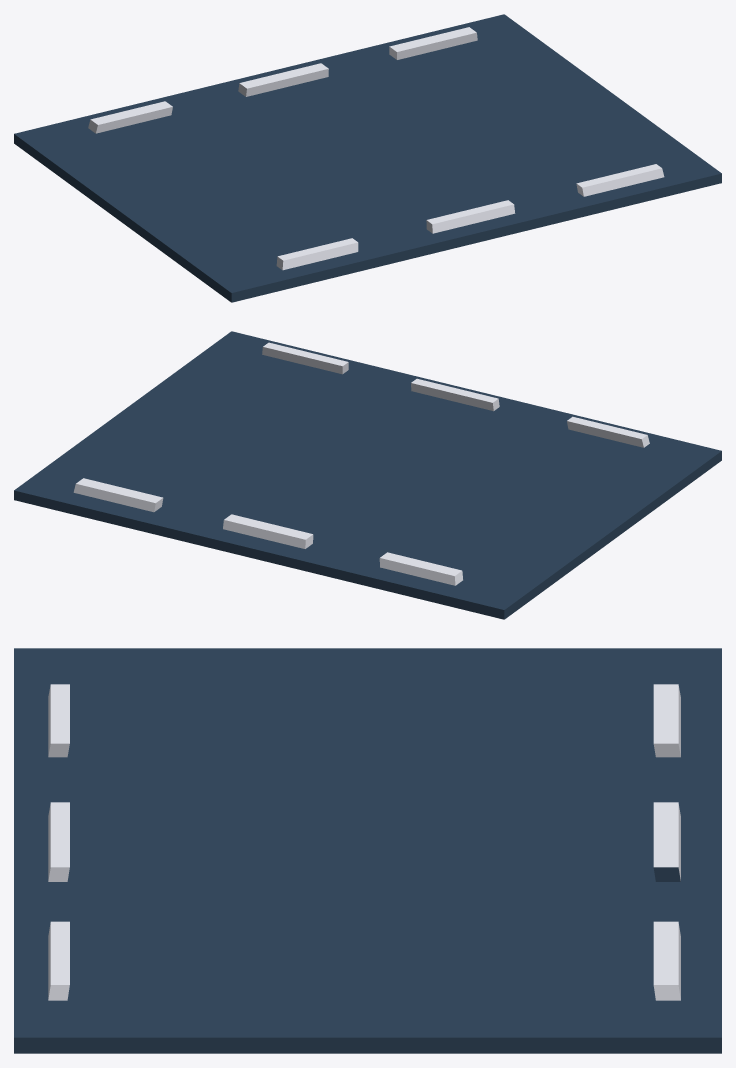
Rendered from Parking.fbx.
3 views of the same model, one above another, from view 1: azimuth 30°, elevation 25°; view 2: azimuth 150°, elevation 25°; view 3: azimuth 270°, elevation 25° (orthographic). The views are drawn at different scales.
Parts seen in each view (by area): view 1: Parking; view 2: Parking; view 3: Parking.
Part boxes in pixels (x1,y1,x2,y2): Parking: [14, 14, 721, 302]; Parking: [14, 331, 721, 619]; Parking: [14, 648, 721, 1053].
Size of the model in its own units: 3.34 by 0.1199 by 2.56.
